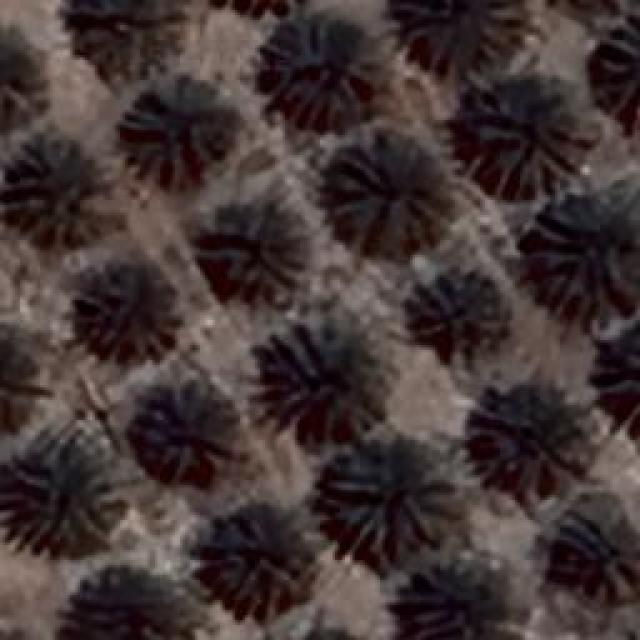PalmTree: (315, 440, 460, 558), (467, 72, 595, 198), (112, 72, 238, 190), (530, 190, 638, 320), (255, 9, 375, 122), (268, 327, 380, 445), (474, 382, 578, 498), (8, 137, 110, 245), (10, 452, 125, 546), (332, 140, 440, 235), (135, 376, 230, 482), (209, 206, 309, 306), (398, 555, 520, 635), (61, 575, 199, 640), (400, 0, 525, 70), (215, 520, 310, 612), (77, 0, 185, 80), (84, 268, 182, 356), (587, 320, 640, 455), (560, 512, 638, 598), (418, 280, 504, 355), (0, 30, 50, 130), (592, 18, 638, 122), (0, 335, 43, 433), (212, 0, 332, 22)
